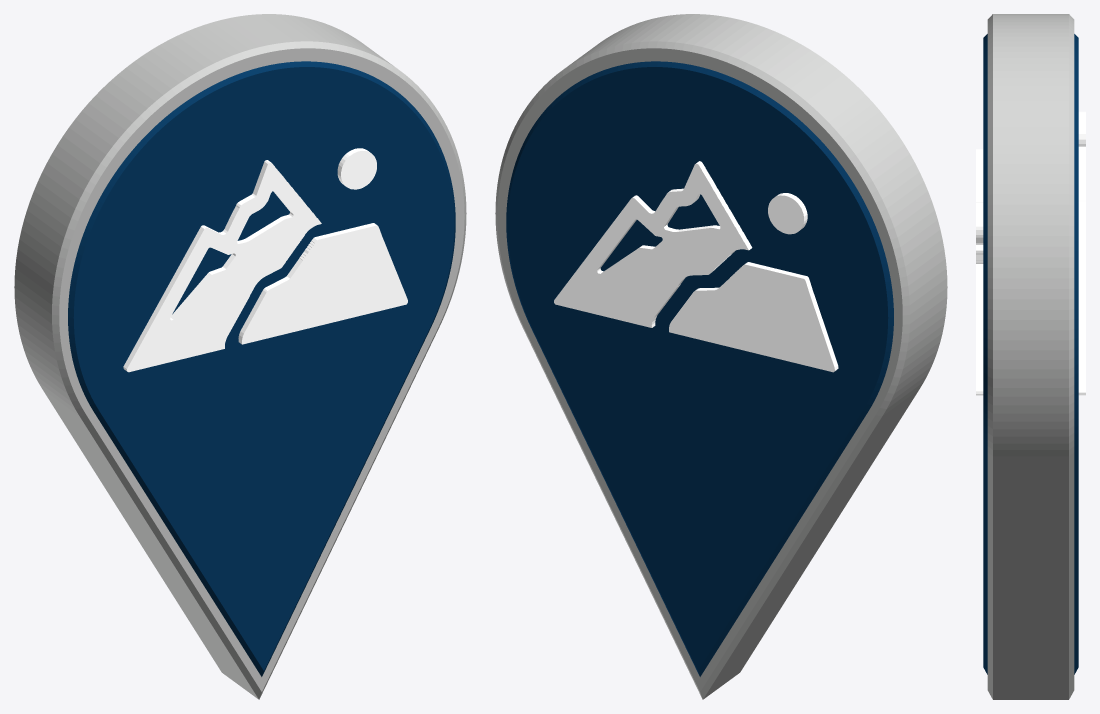
Rendered from rockies-marker.glb.
3 views of the same model, side by side, from view 1: azimuth 30°, elevation 25°; view 2: azimuth 150°, elevation 25°; view 3: azimuth 270°, elevation 25° (orthographic).
Visible parts, largest first — view 1: marker-body, rim, identity-front; view 2: marker-body, rim, identity-back; view 3: rim, marker-body, identity-back, identity-front.
Part boxes in pixels (box(x1,y1,x2,y2)): marker-body: box(68, 61, 455, 676); rim: box(14, 14, 466, 699); identity-front: box(123, 148, 407, 372); marker-body: box(506, 61, 893, 676); rim: box(495, 14, 947, 699); identity-back: box(554, 161, 838, 372); rim: box(987, 14, 1074, 699); marker-body: box(983, 34, 1078, 674); identity-back: box(1078, 111, 1085, 395); identity-front: box(976, 149, 983, 395).
Bounding box in the file's own units: 2.24 × 3.37 × 0.506.
